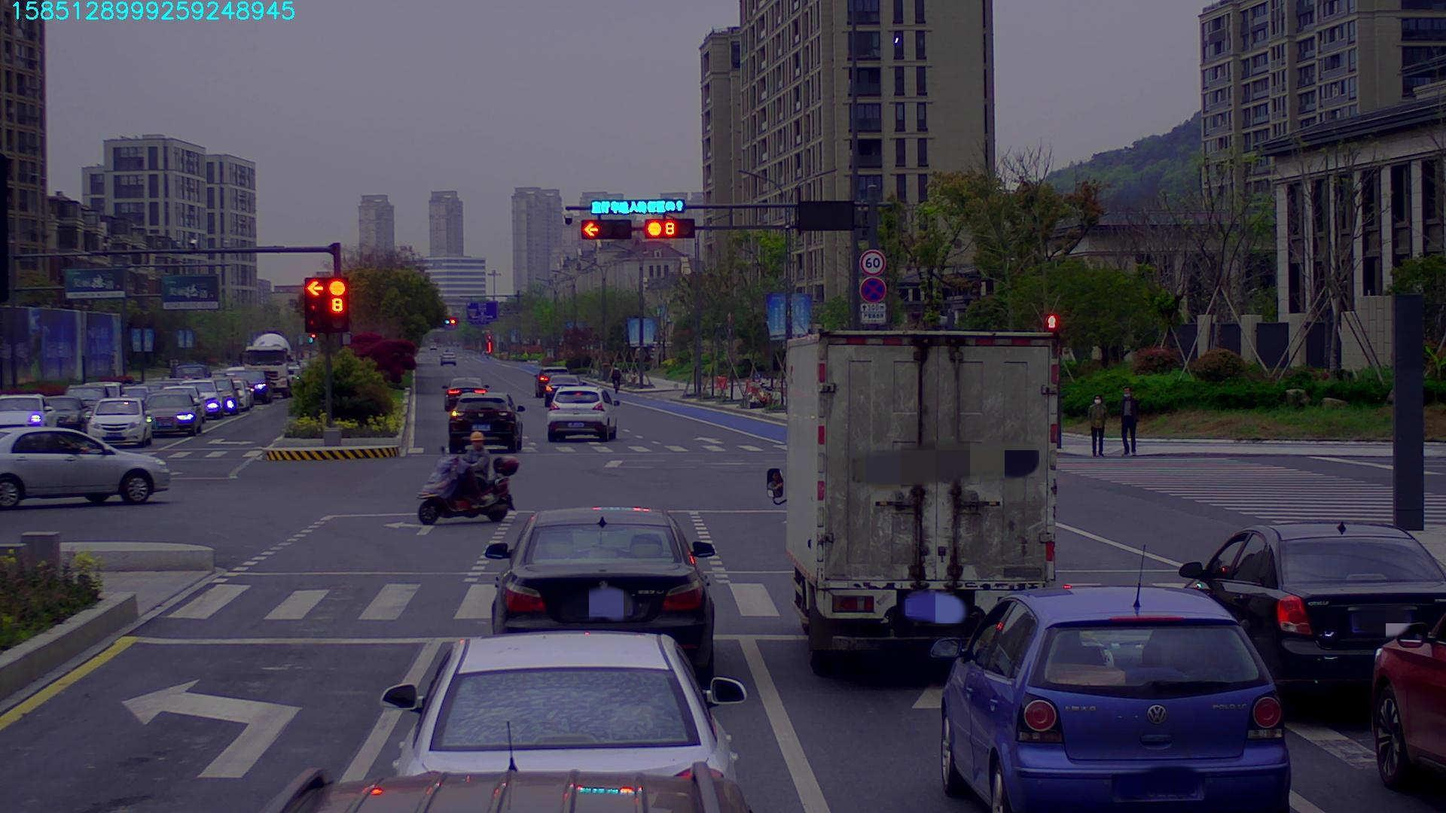red: (581, 219, 634, 237), (642, 218, 689, 237)
wait_on: (587, 198, 689, 215)
